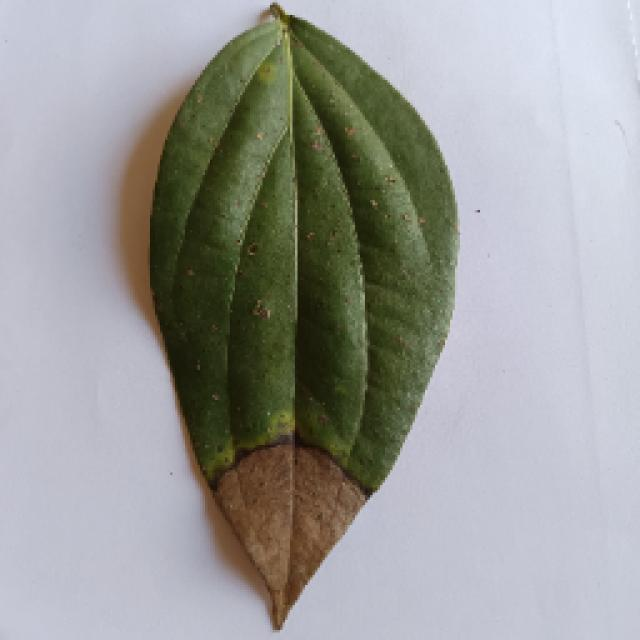footrot: (95, 15, 515, 627)
